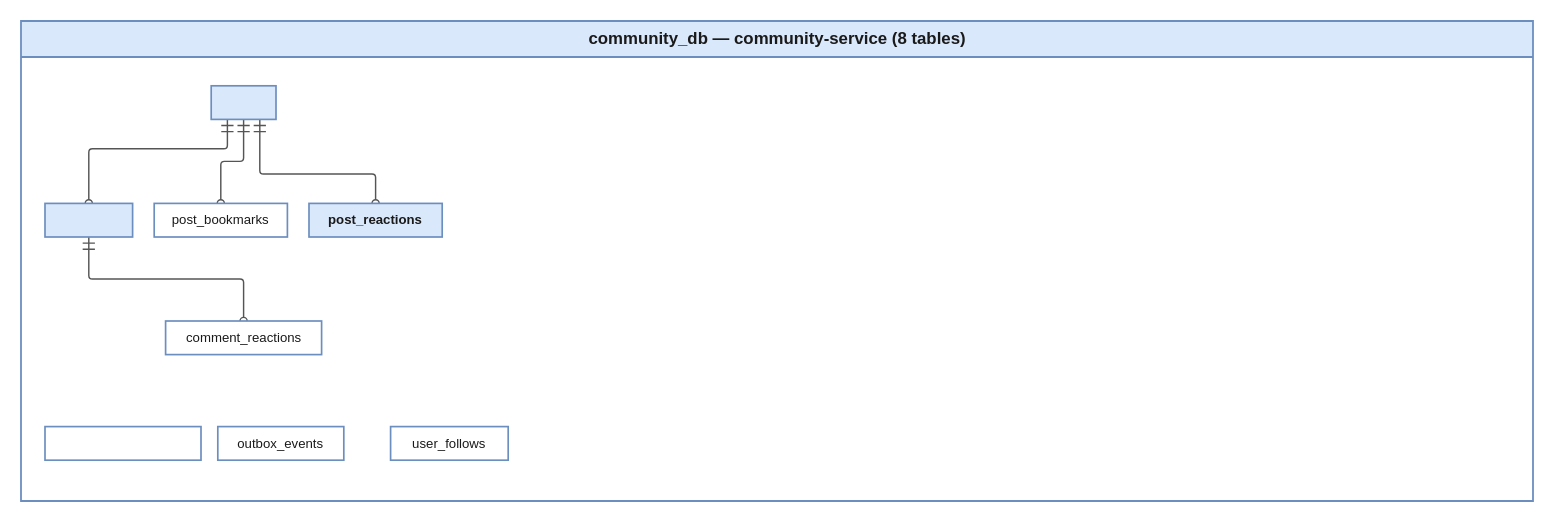
Image size: 1555x523. Some labels were removed from this diagram. The shapes that lost their labels are listed below. From the top down, each one's centre as x and y in pixels, then its label:
At [243,102]: "posts".
At [88,219]: "comments".
At [122,442]: "community_reports".
